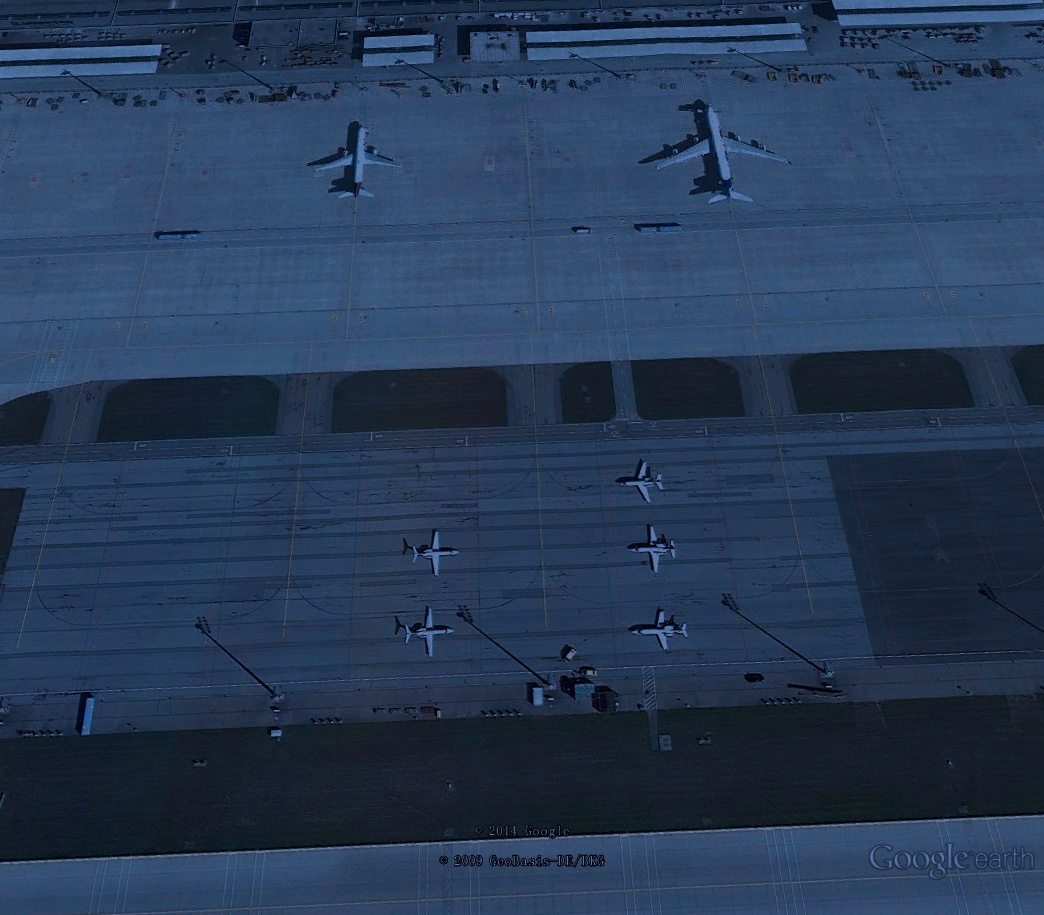aircraft: (651, 102, 796, 210), (309, 121, 397, 204), (625, 604, 694, 661), (397, 601, 456, 664), (406, 526, 465, 582), (627, 520, 679, 579), (616, 456, 669, 507)
